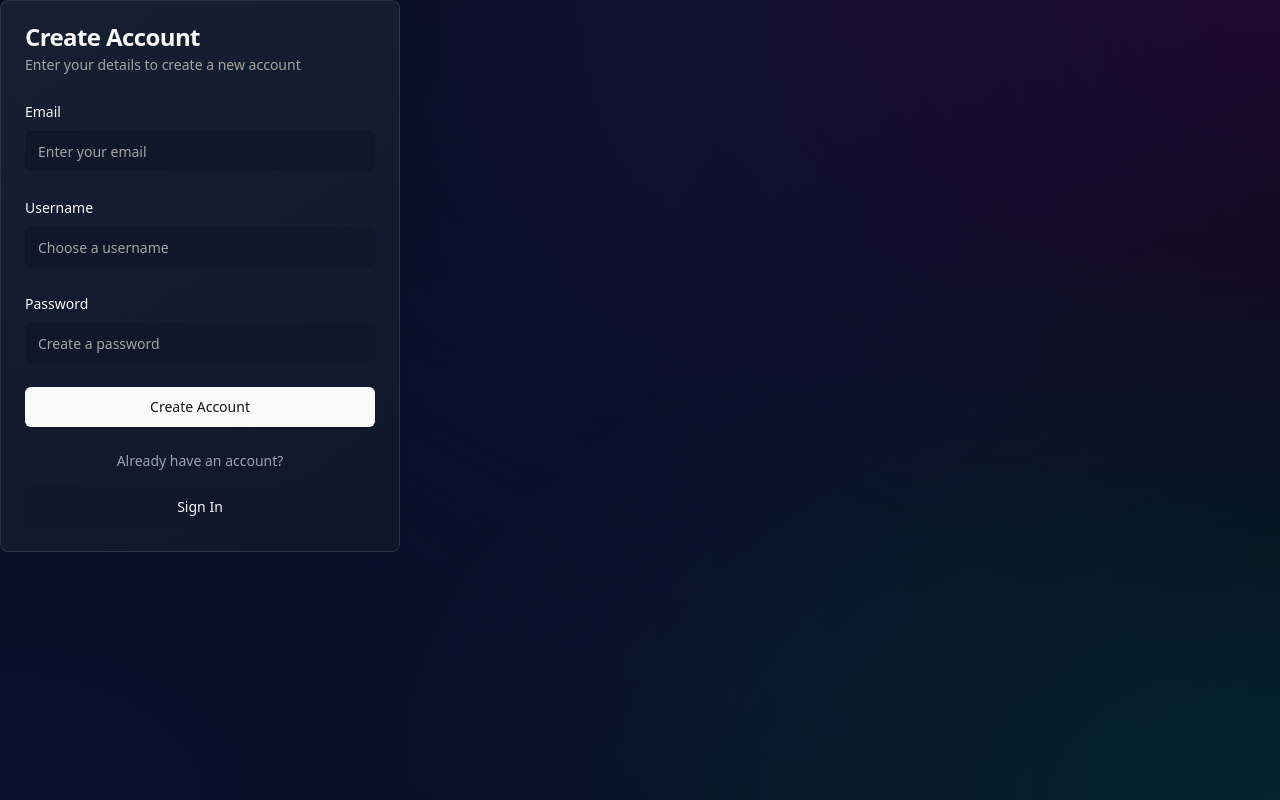
Test case: SignUpForm › handles sign up error
This screenshot has width=1280, height=800.
Type "test@example.com" into the field labelled "Email" at (200,151), box [25,131,375,171]
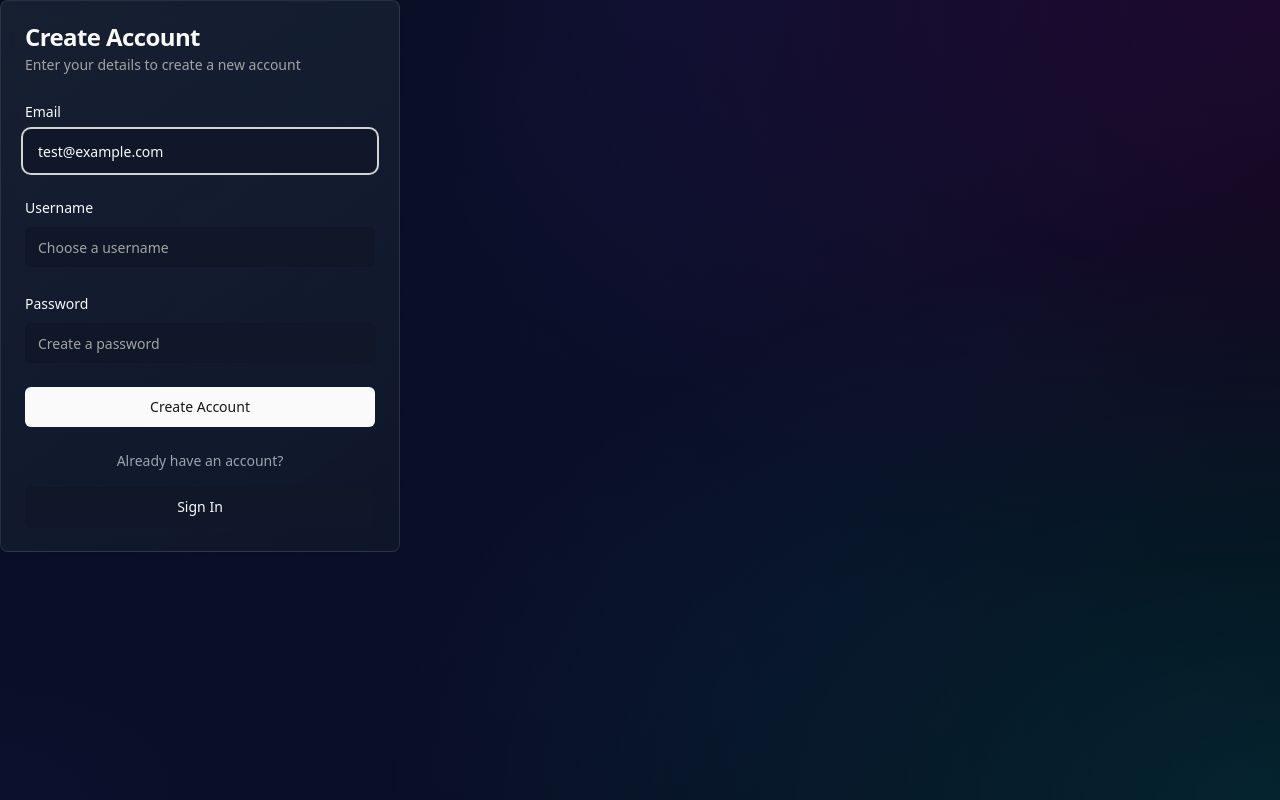
Type "testuser" into the field labelled "Username" at (200,247), box [25,227,375,267]
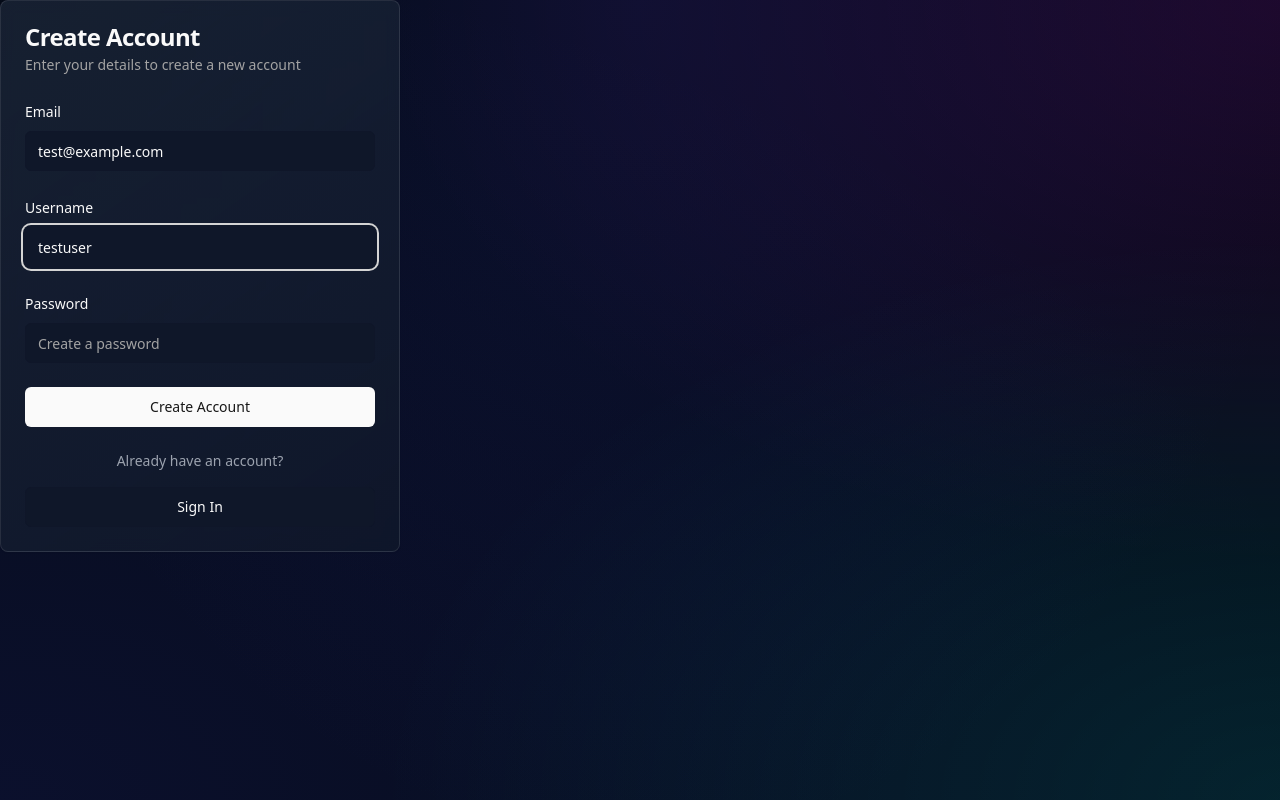
Type "password123" into the password field labelled "Password" at (200,343), box [25,323,375,363]
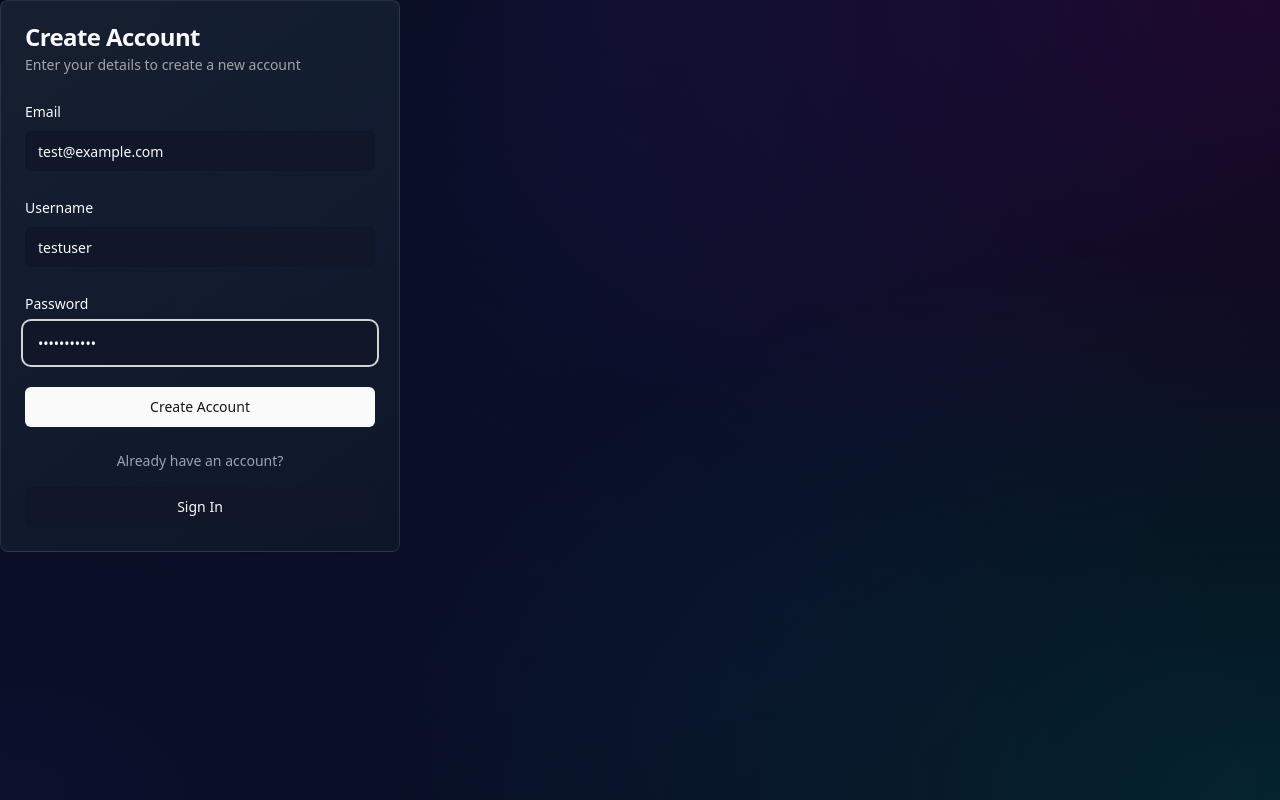
Click the button "Create Account" at (200,407), box [25,387,375,427]
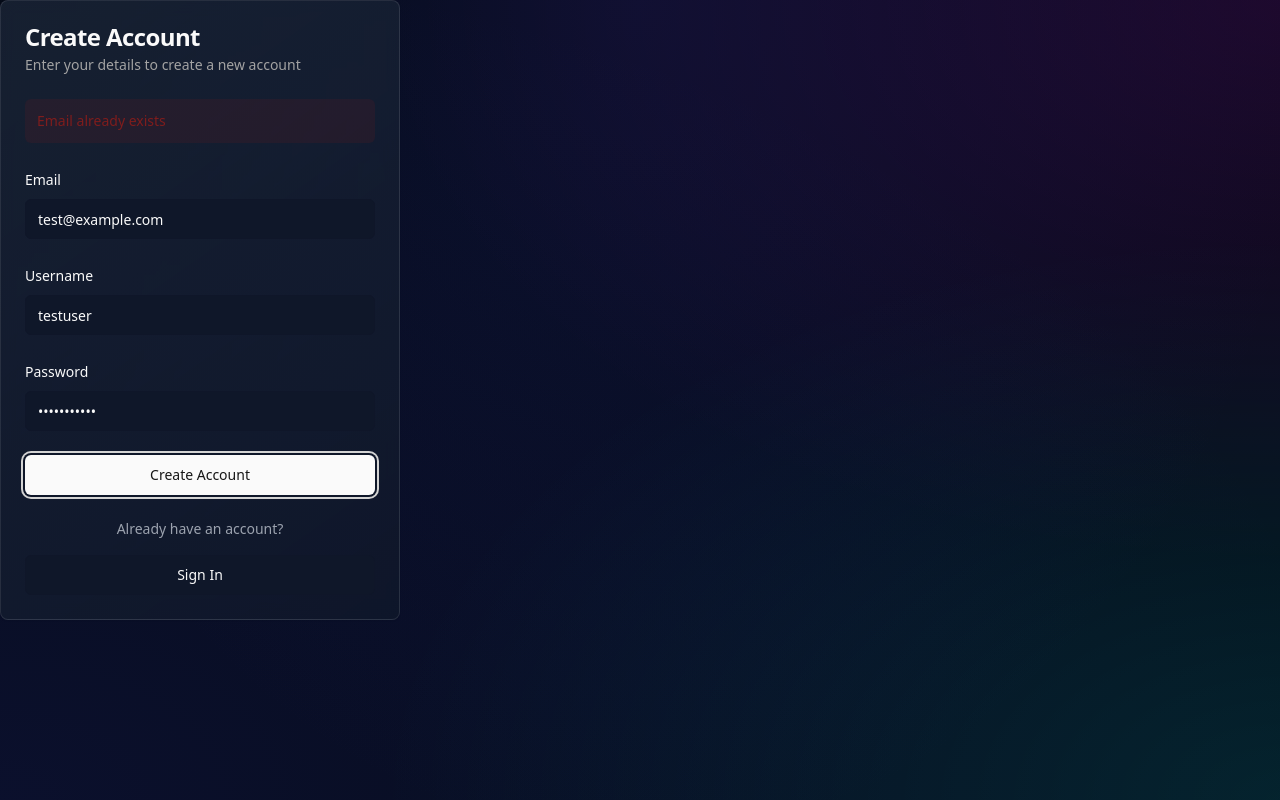
Result: the text "Email already exists" is shown at [25,99,375,143]
